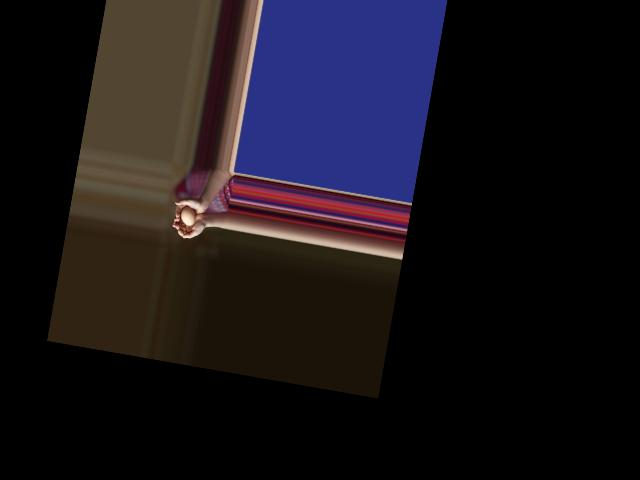egg: (178, 205, 197, 226)
